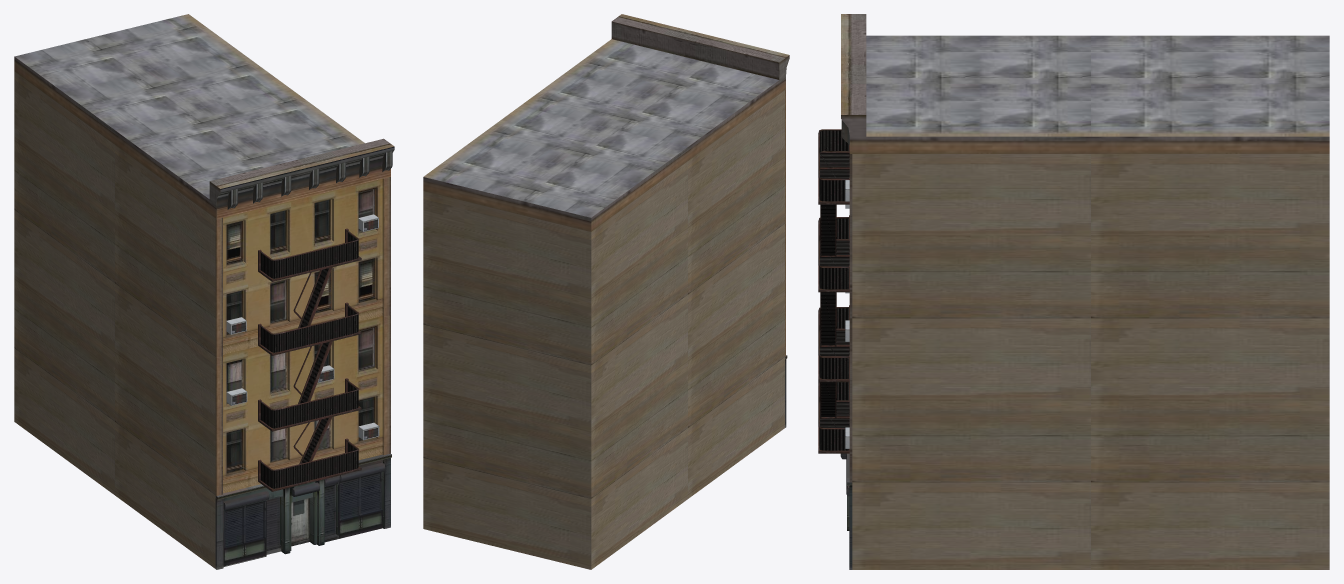
The model's file is building-sample-tower-c.glb.
The picture shows the model from 3 angles, left to right: view 1: azimuth 30°, elevation 25°; view 2: azimuth 150°, elevation 25°; view 3: azimuth 270°, elevation 25°; orthographic projection. The views are drawn at different scales.
Visible parts, largest first — view 1: building-sample-tower-c.001; view 2: building-sample-tower-c.001; view 3: building-sample-tower-c.001.
Part boxes in pixels (<box>): building-sample-tower-c.001: <box>14,14,394,569</box>; building-sample-tower-c.001: <box>423,14,789,569</box>; building-sample-tower-c.001: <box>818,14,1329,569</box>.
Size of the model in its own units: 1.1 by 2.31 by 2.36.
Materials: 3 (3 with a texture image).
